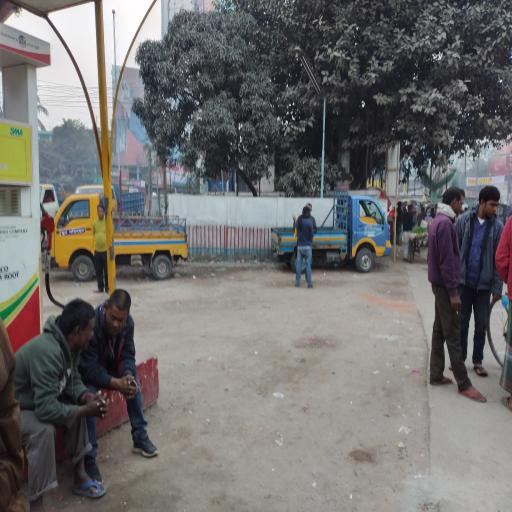pickup: (51, 195, 190, 283), (272, 190, 392, 280)
truck: (75, 184, 147, 215)
